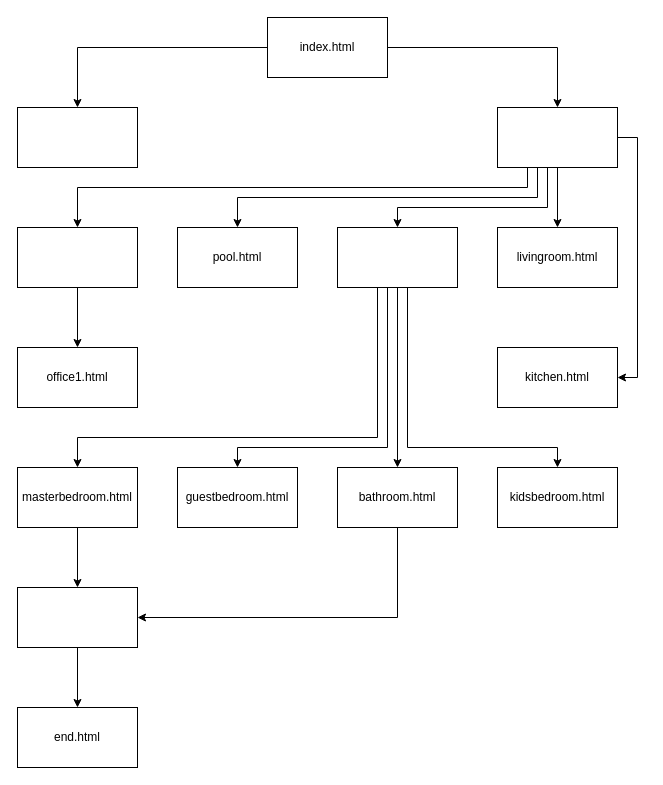
Image size: 663x785. Some labels were removed from this diagram. The shapes that lost their labels are listed below. From the top down, each one's centre as x and y in pixels, then its label:
At [77,137]: "statement.html".
At [557,137]: "entry.html".
At [77,257]: "office.html".
At [397,257]: "hallway.html".
At [77,617]: "treasure.html".
